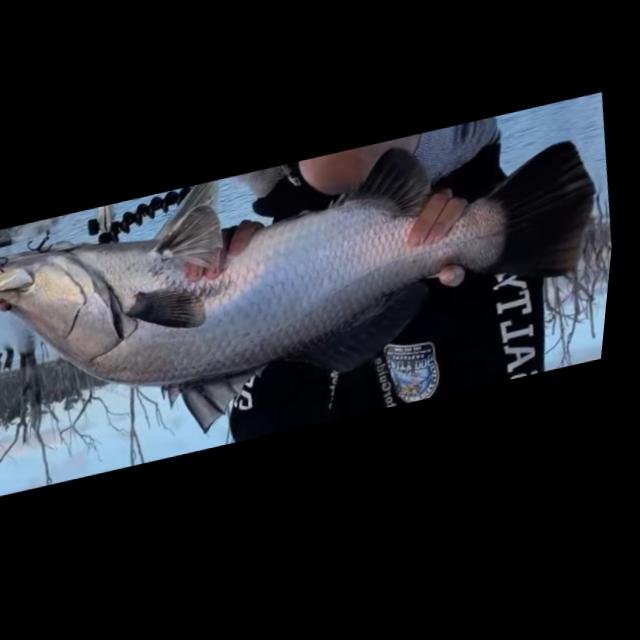Seabass: (0, 100, 626, 488)
